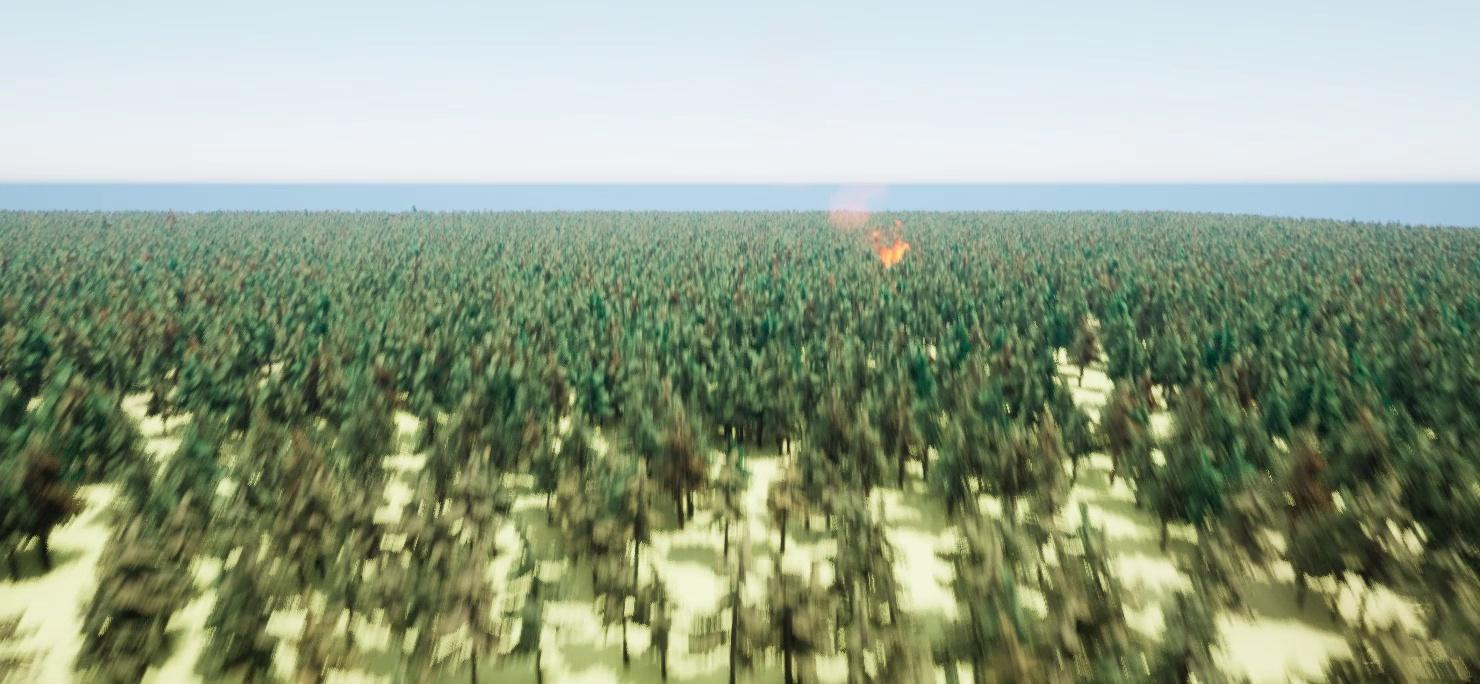fire: (871, 236, 915, 270)
smoke: (826, 182, 889, 229)
